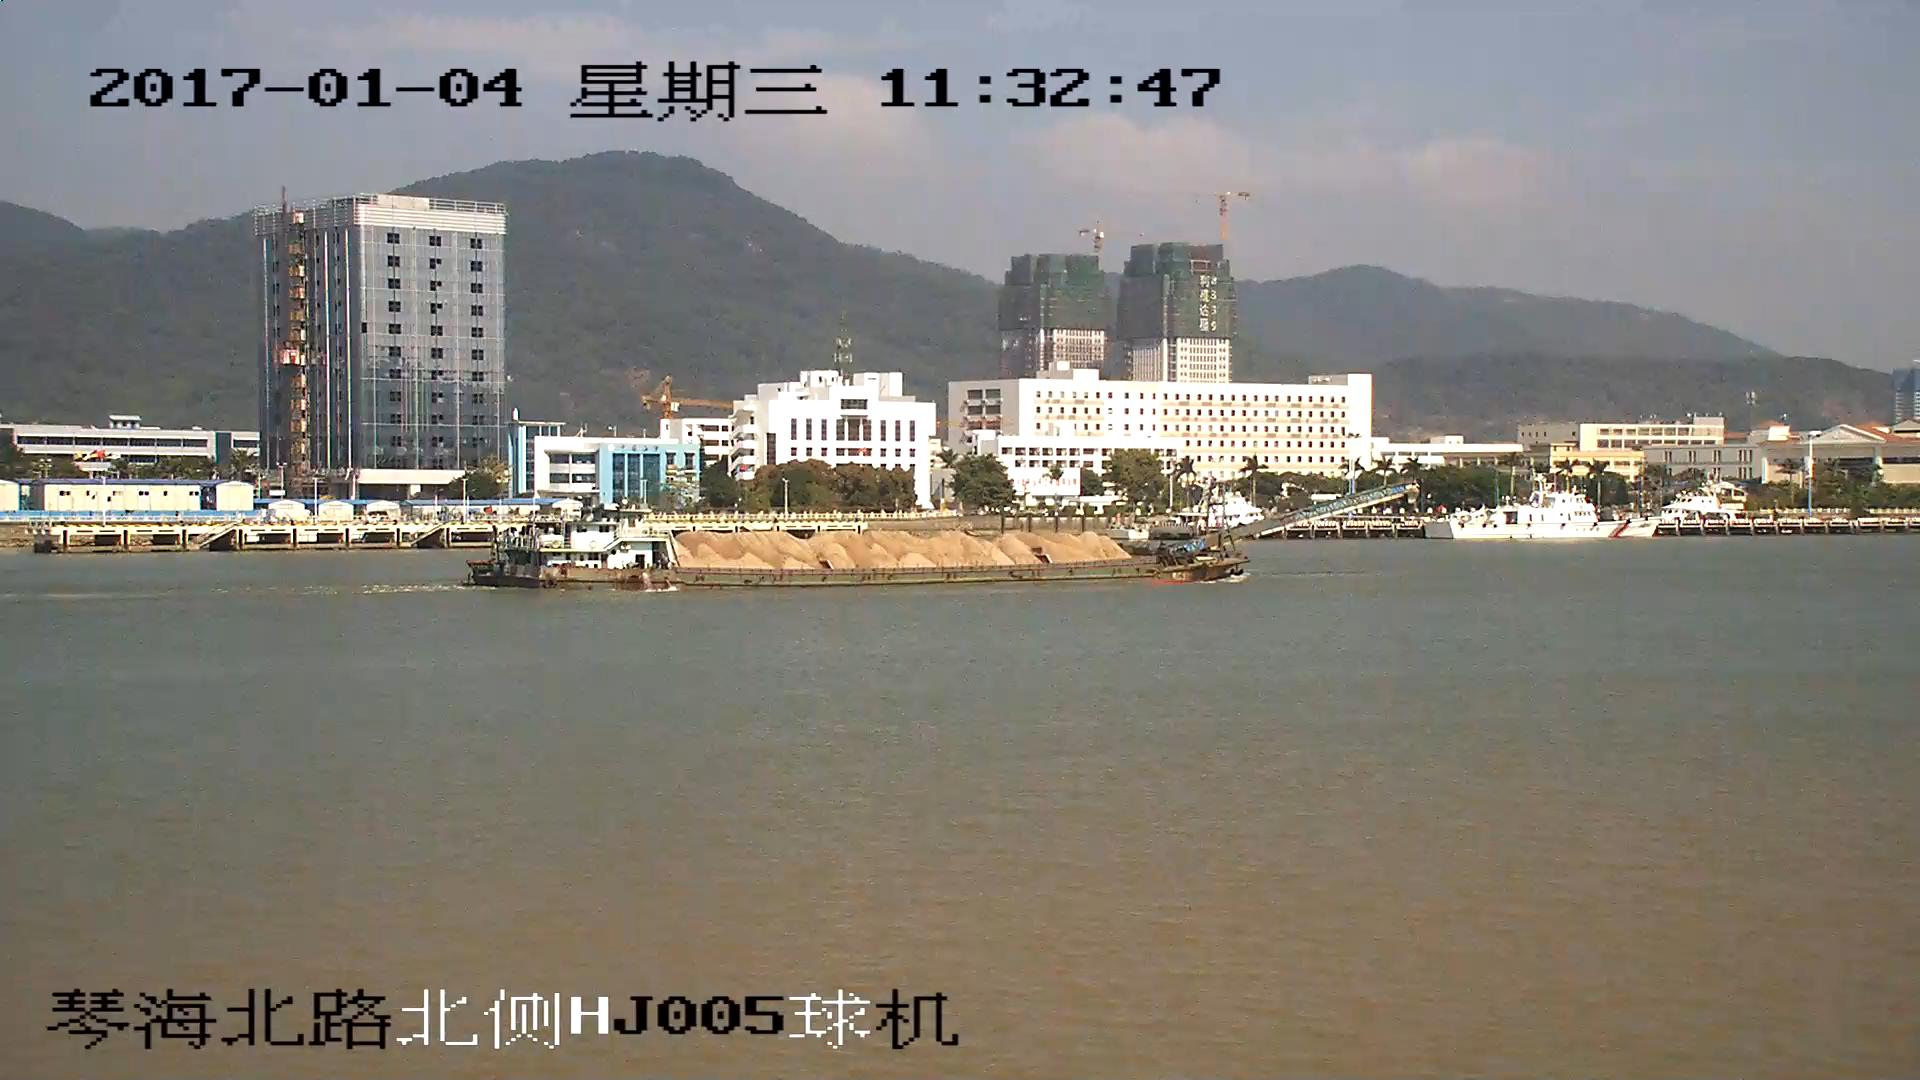ore carrier: (466, 486, 1414, 592)
